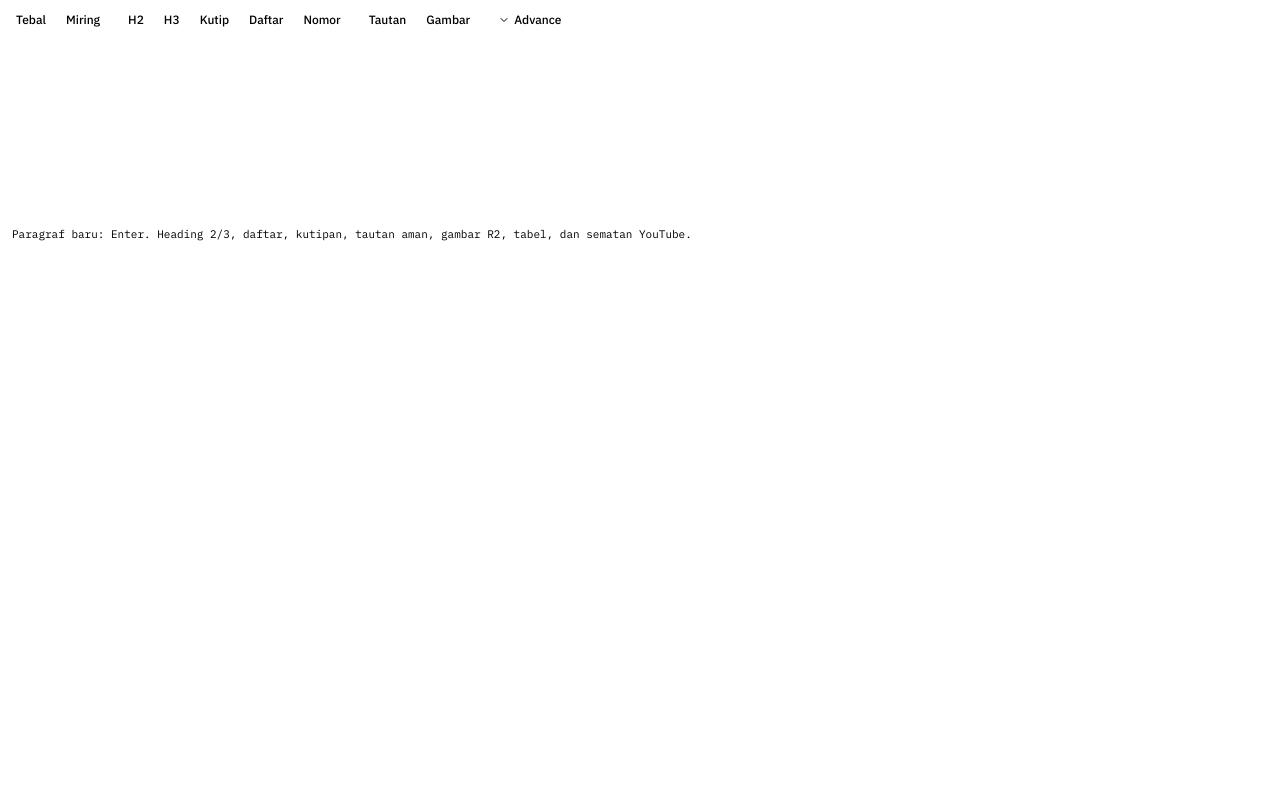
RichTextEditor › membuka panel URL gambar dari menu sisip gambar
The width and height of the screenshot is (1280, 800).
Expected: the field labelled "URL gambar" is not shown
Click the button with aria-label "Sisipkan gambar": (448, 20) [418,8,478,32]
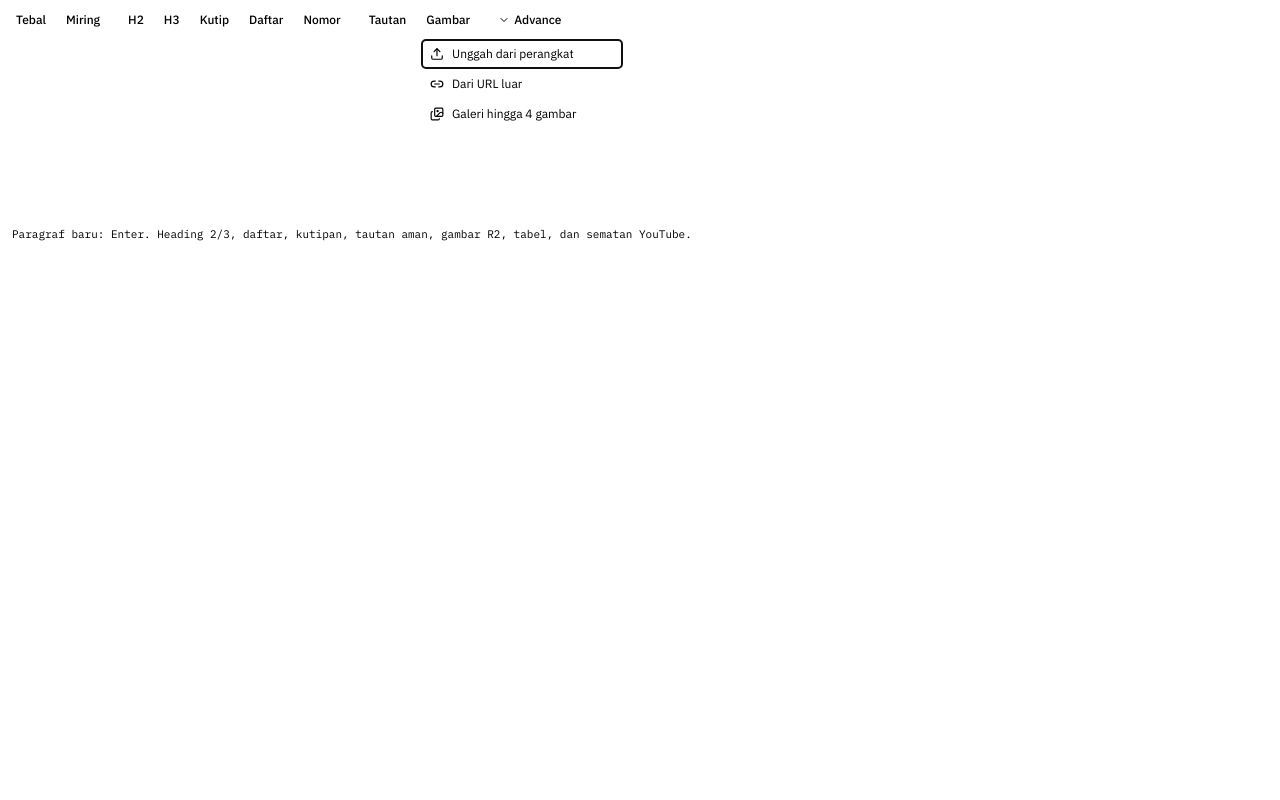
Click the menu item "Dari URL luar": (522, 84) [422,70,622,98]
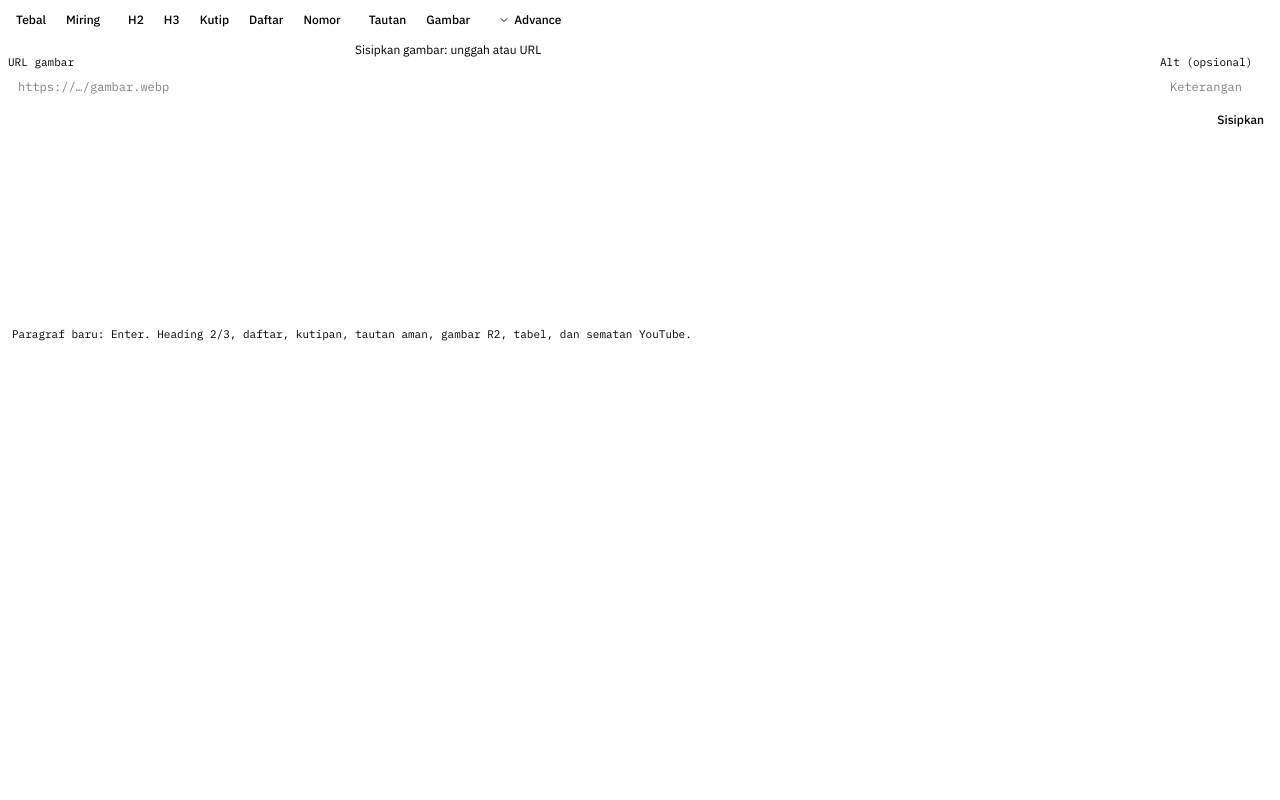
Expected: the field labelled "URL gambar" is shown, [8,72,1152,100]
Expected: the field labelled "Alt (opsional)" is shown, [1160,72,1272,100]
